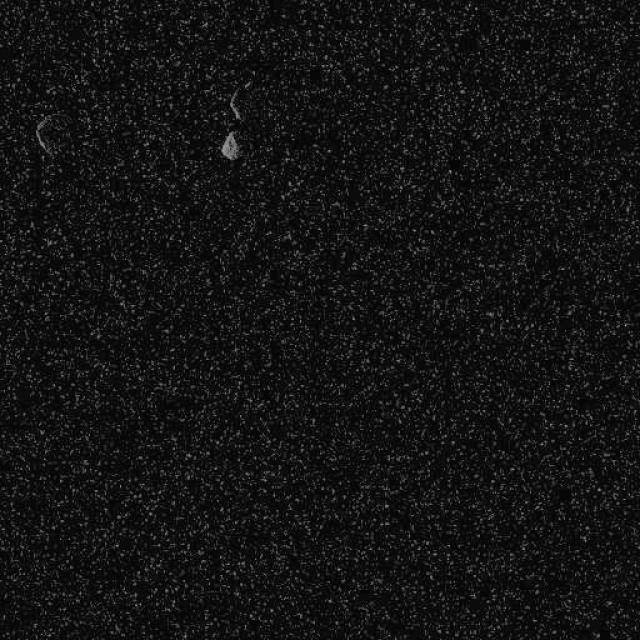D2: (34, 110, 72, 159), (219, 129, 240, 160), (228, 86, 244, 122)
